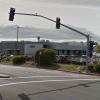Traffic light: (5, 7, 25, 27)
